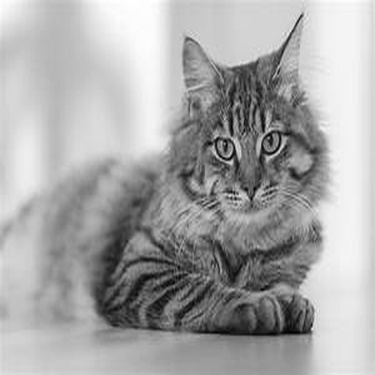cat: (103, 17, 325, 336)
